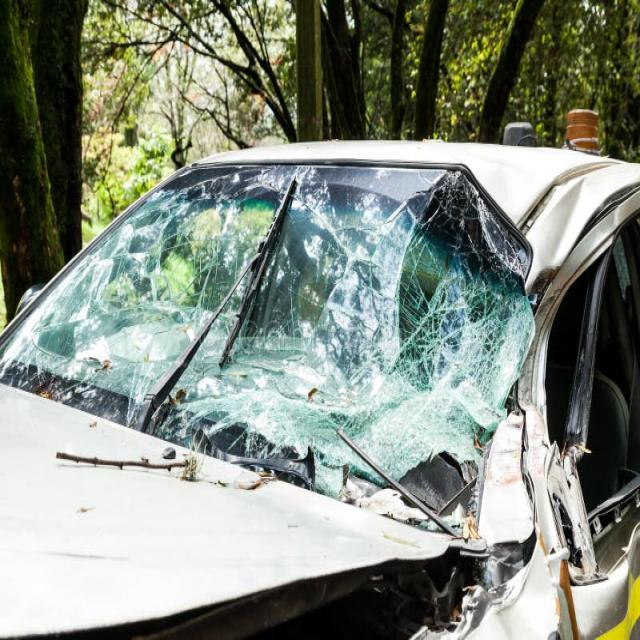crush: (0, 141, 640, 640)
